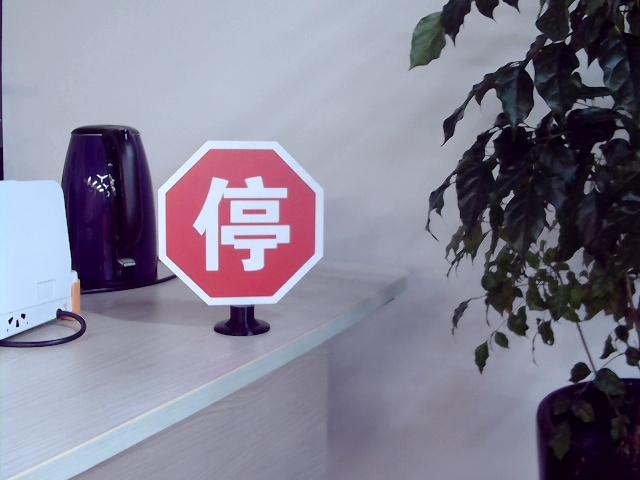stop: (190, 170, 291, 276)
